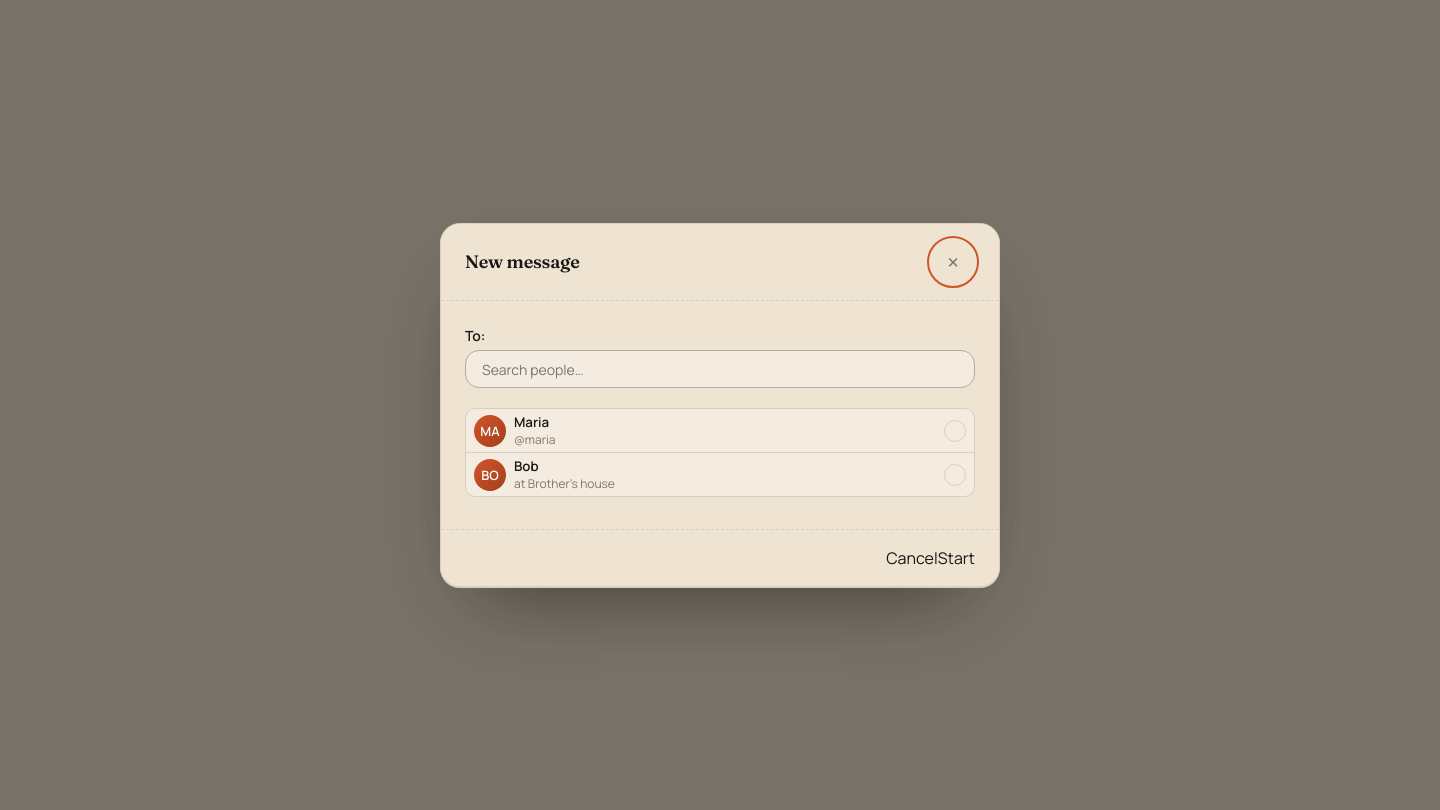
Test case: NewDmDialog — submit routing › picking a remote person disables the other local rows — group with a remote isn’t supported yet
expect the dialog is shown: met, box [440, 223, 1000, 587]
# Pick Bob (remote) — Maria's row should then be disabled.
Click the option with class "sh-newdm-row" showing "BO Bob at Brother's house": (490, 474) [466, 453, 974, 496]
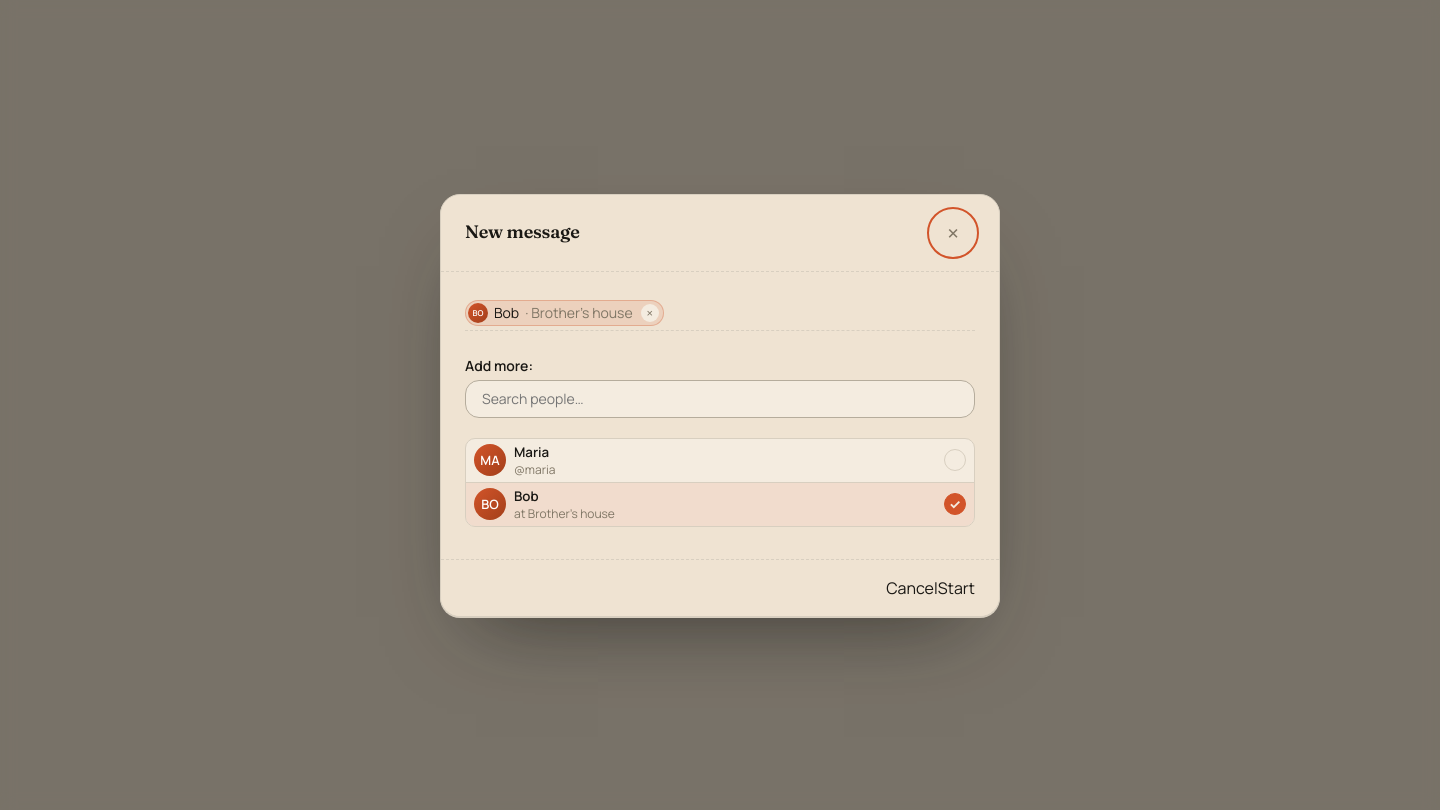
expect the option with class "sh-newdm-row" showing "MA Maria @maria" is disabled: met, box [466, 438, 974, 482]
